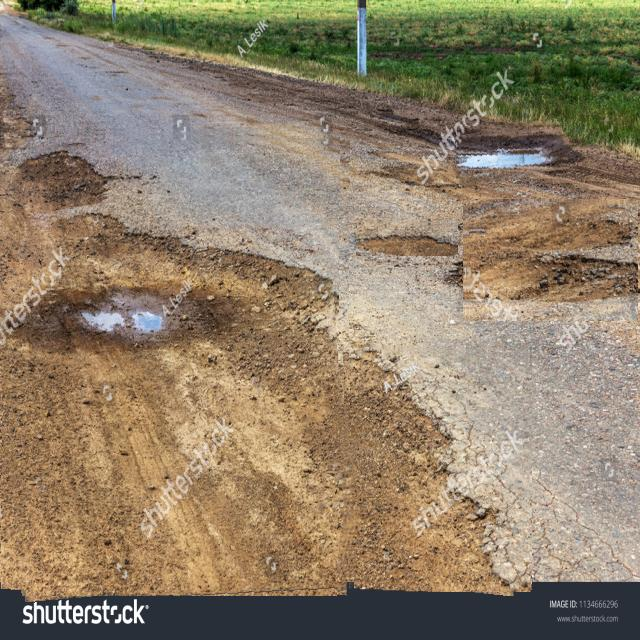Pothole: (0, 127, 350, 596), (343, 345, 532, 592), (463, 199, 638, 321), (456, 121, 568, 184), (356, 218, 458, 256)
